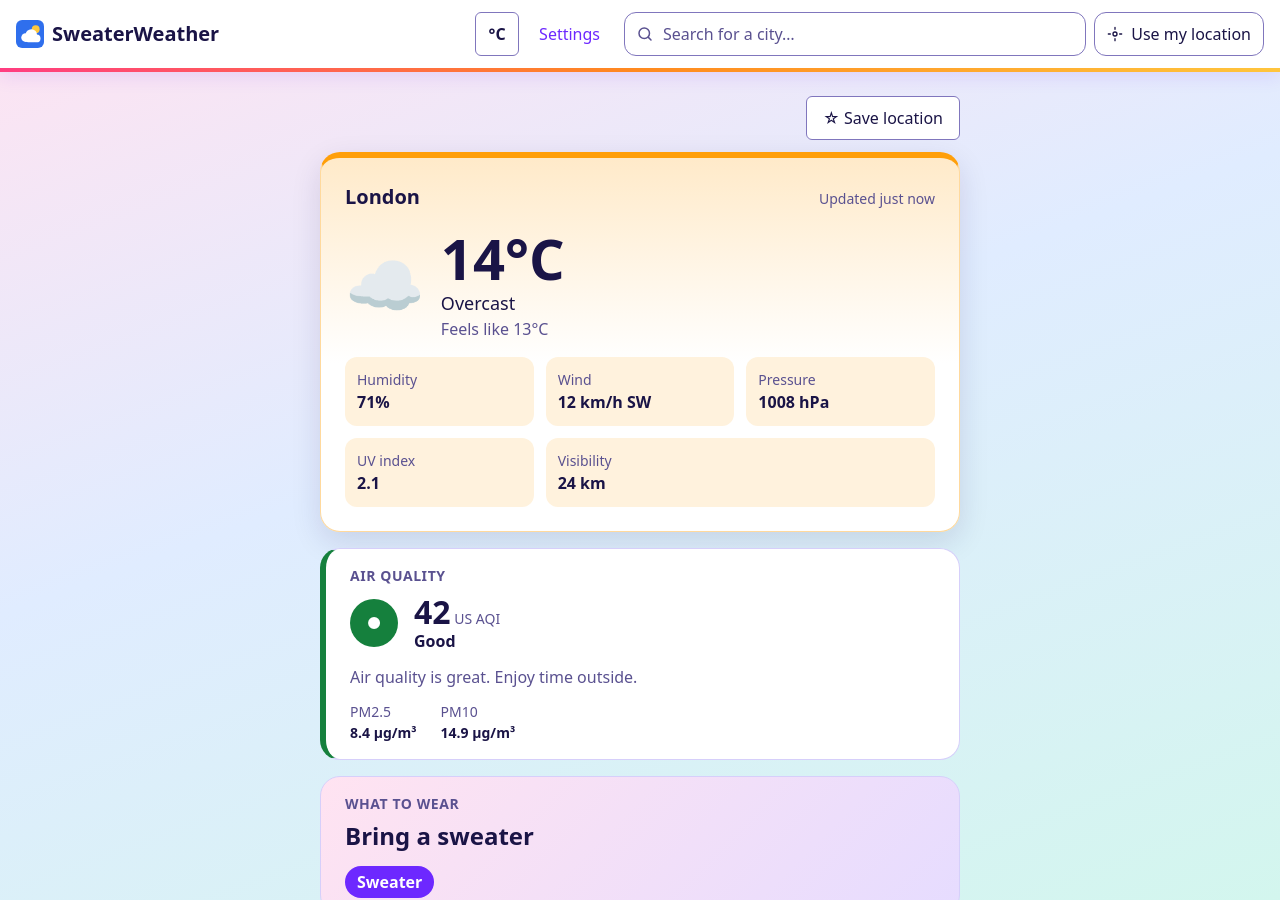
Scenario: unit controls › keeps the card on screen, in its old units, while the new units load
This screenshot has width=1280, height=900.
Check: the element "London" is shown, box top-left (320, 152), bottom-right (960, 532)
Step 1. Click the button named "Switch to Fahrenheit" → (497, 34), box top-left (475, 12), bottom-right (519, 56)
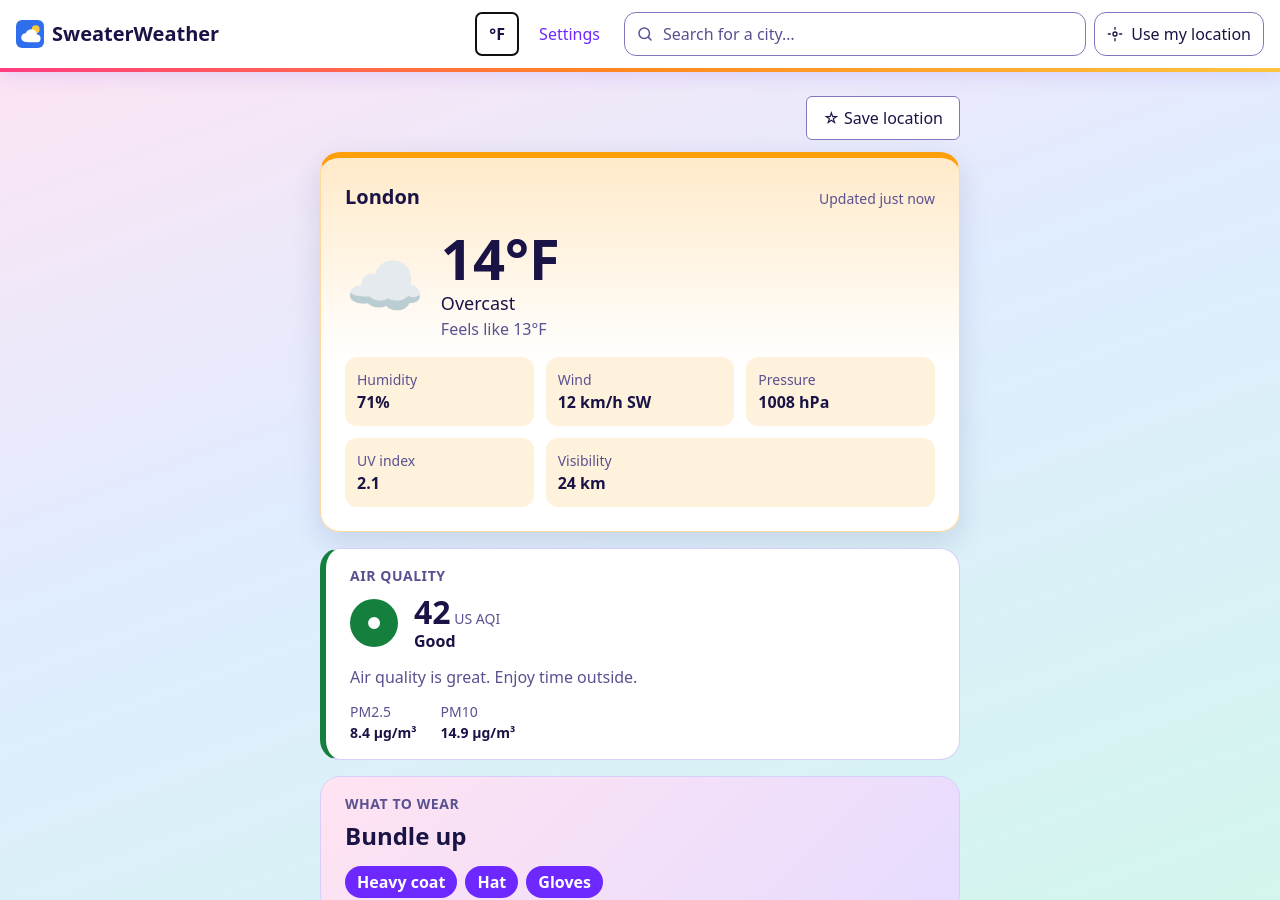
Check: the heading "London" is shown, box top-left (345, 182), bottom-right (420, 212)
Check: the text "14°F" is shown, box top-left (441, 228), bottom-right (560, 290)
